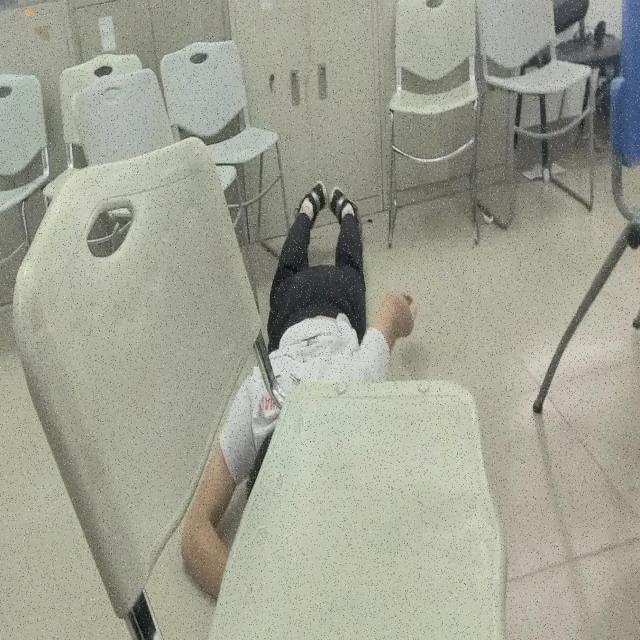fall: (182, 175, 416, 594)
